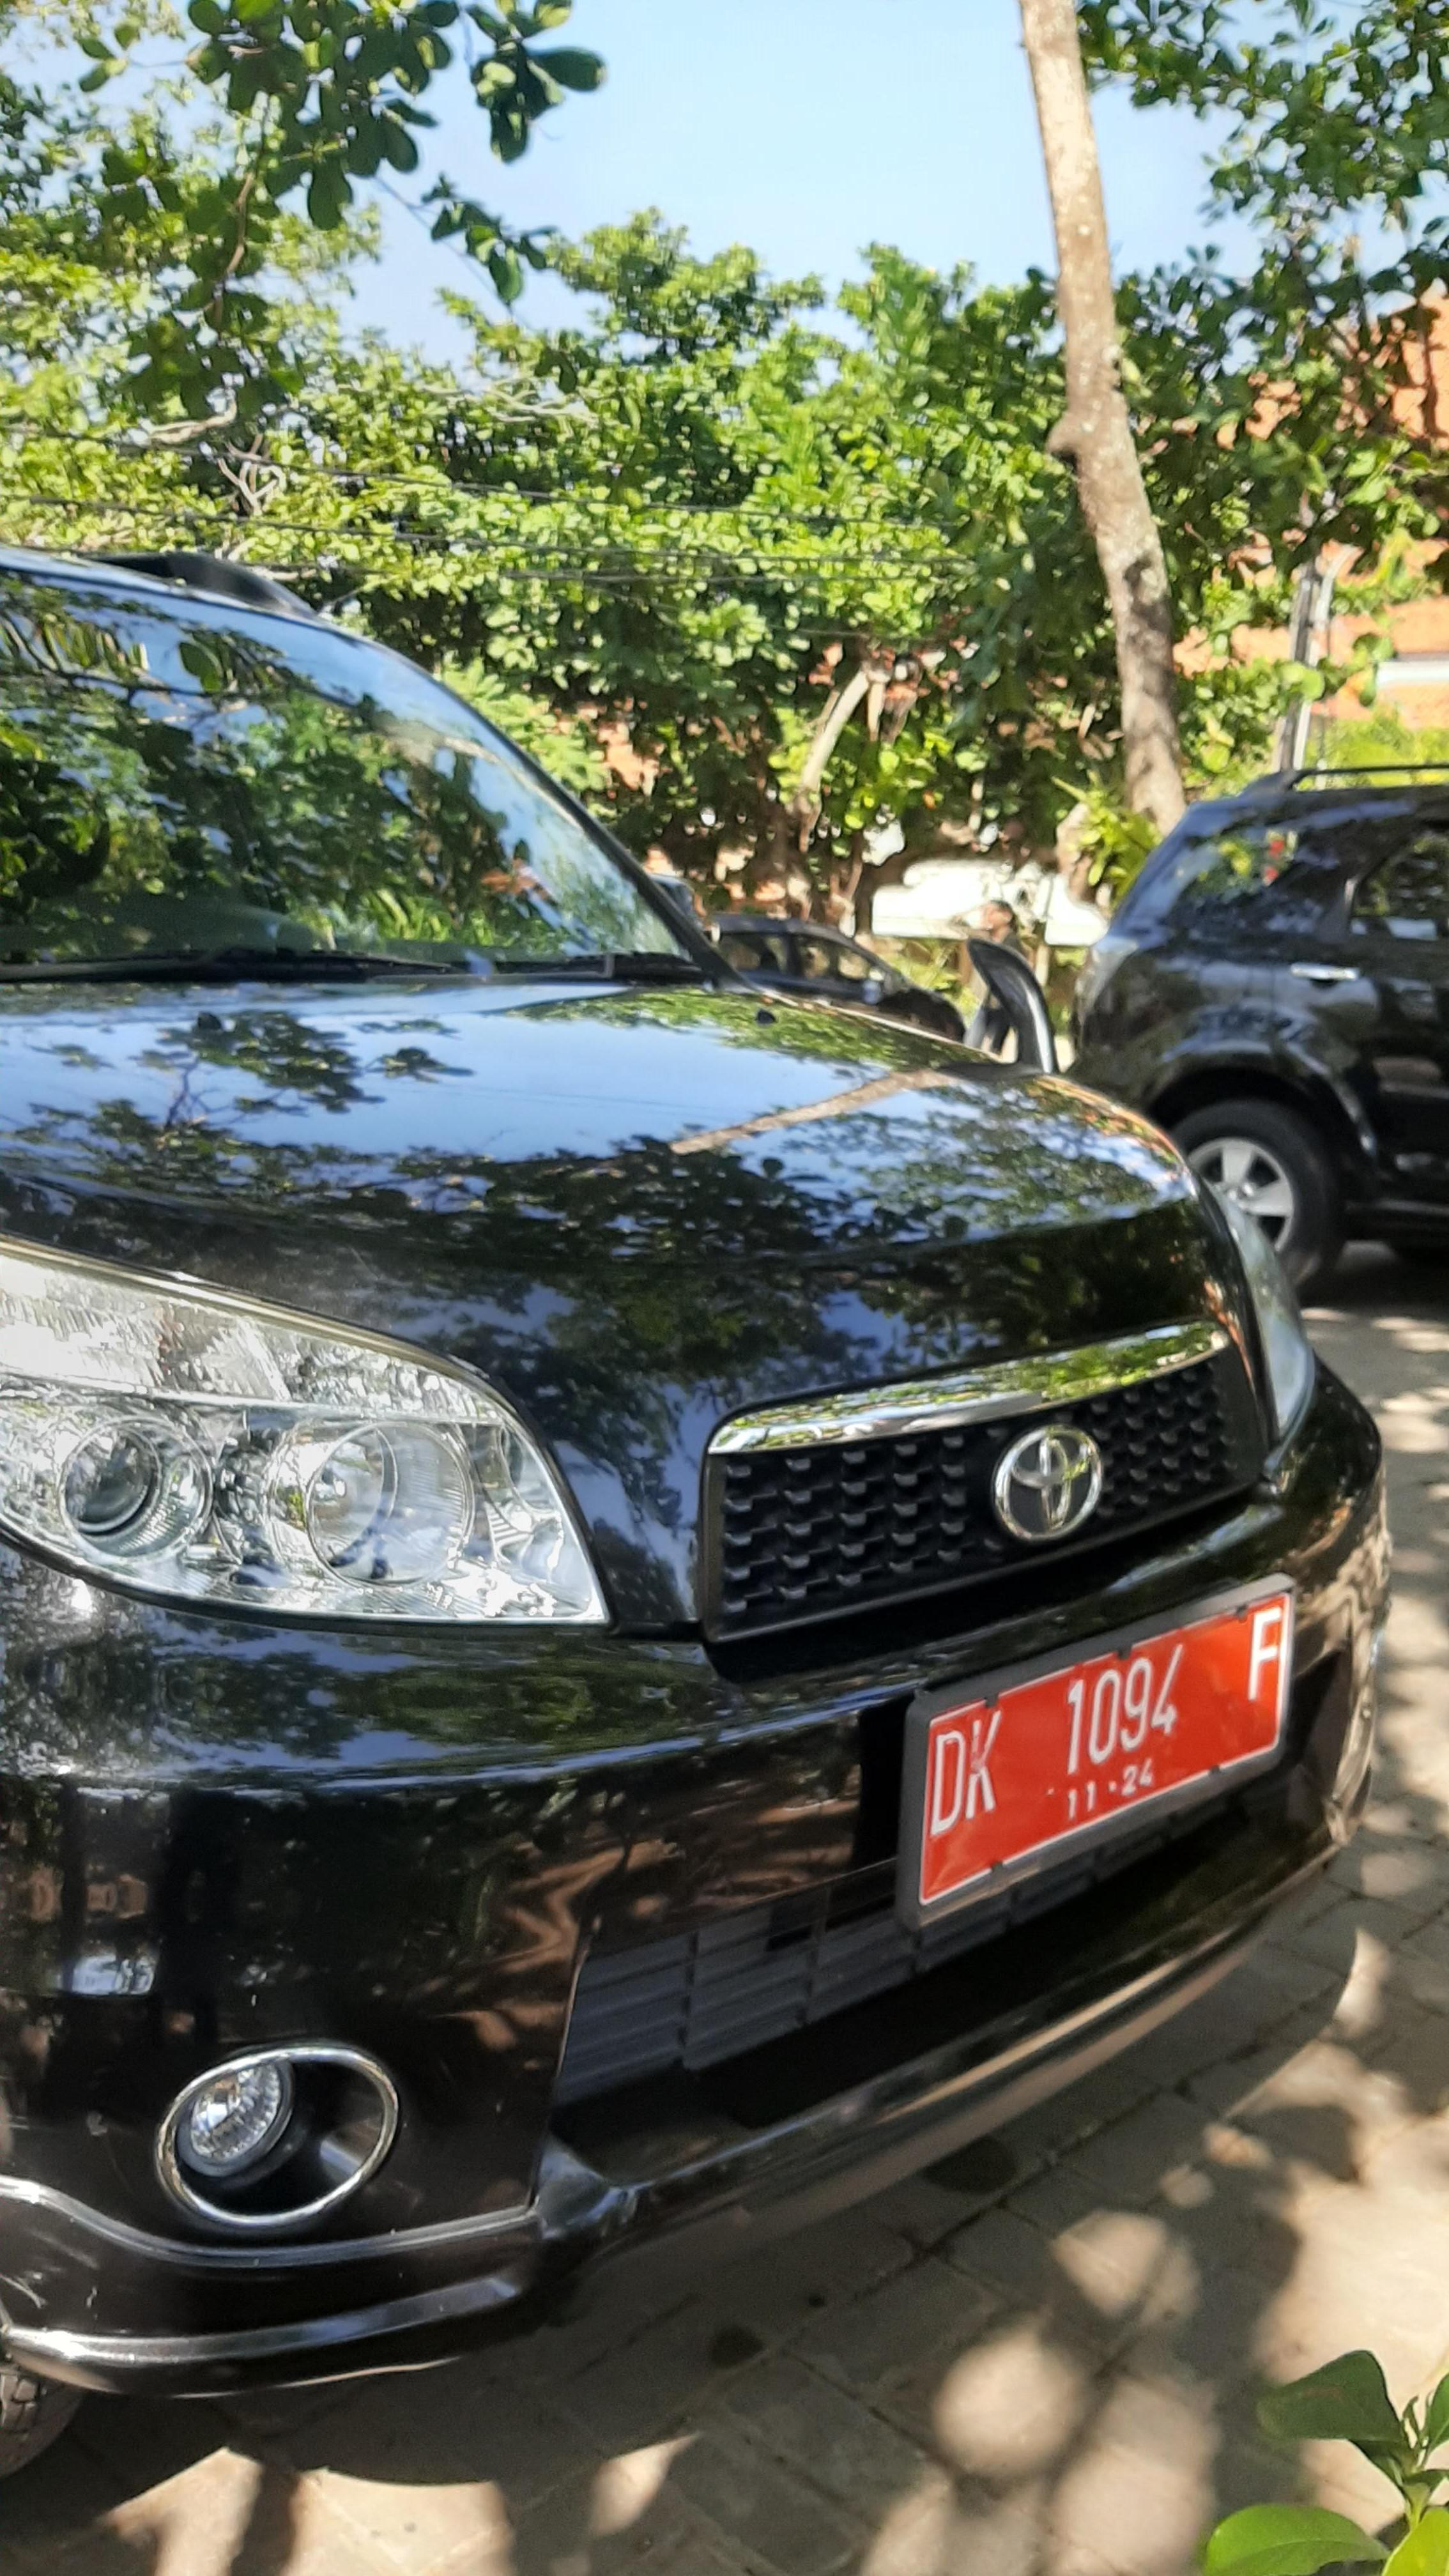plate: (917, 1593, 1296, 1908)
